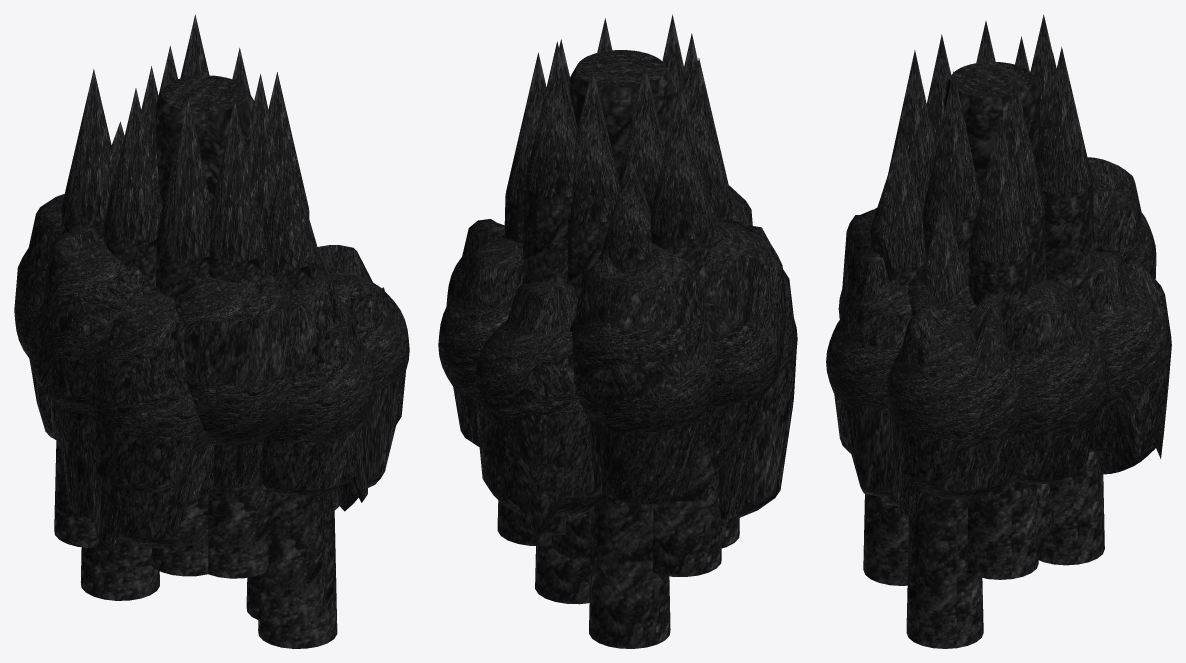
Rendered from relojCaja.obj.
3 views of the same model, side by side, from view 1: azimuth 30°, elevation 25°; view 2: azimuth 150°, elevation 25°; view 3: azimuth 270°, elevation 25° (orthographic). The views are drawn at different scales.
Parts seen in each view (by area): view 1: polySurface121; view 2: polySurface121; view 3: polySurface121.
Part boxes in pixels (<box>): polySurface121: <box>14,14,409,648</box>; polySurface121: <box>438,14,797,648</box>; polySurface121: <box>826,14,1171,648</box>.
Bounding box in the file's own units: 451 × 749 × 414.
Materials: 1 (1 with a texture image).
